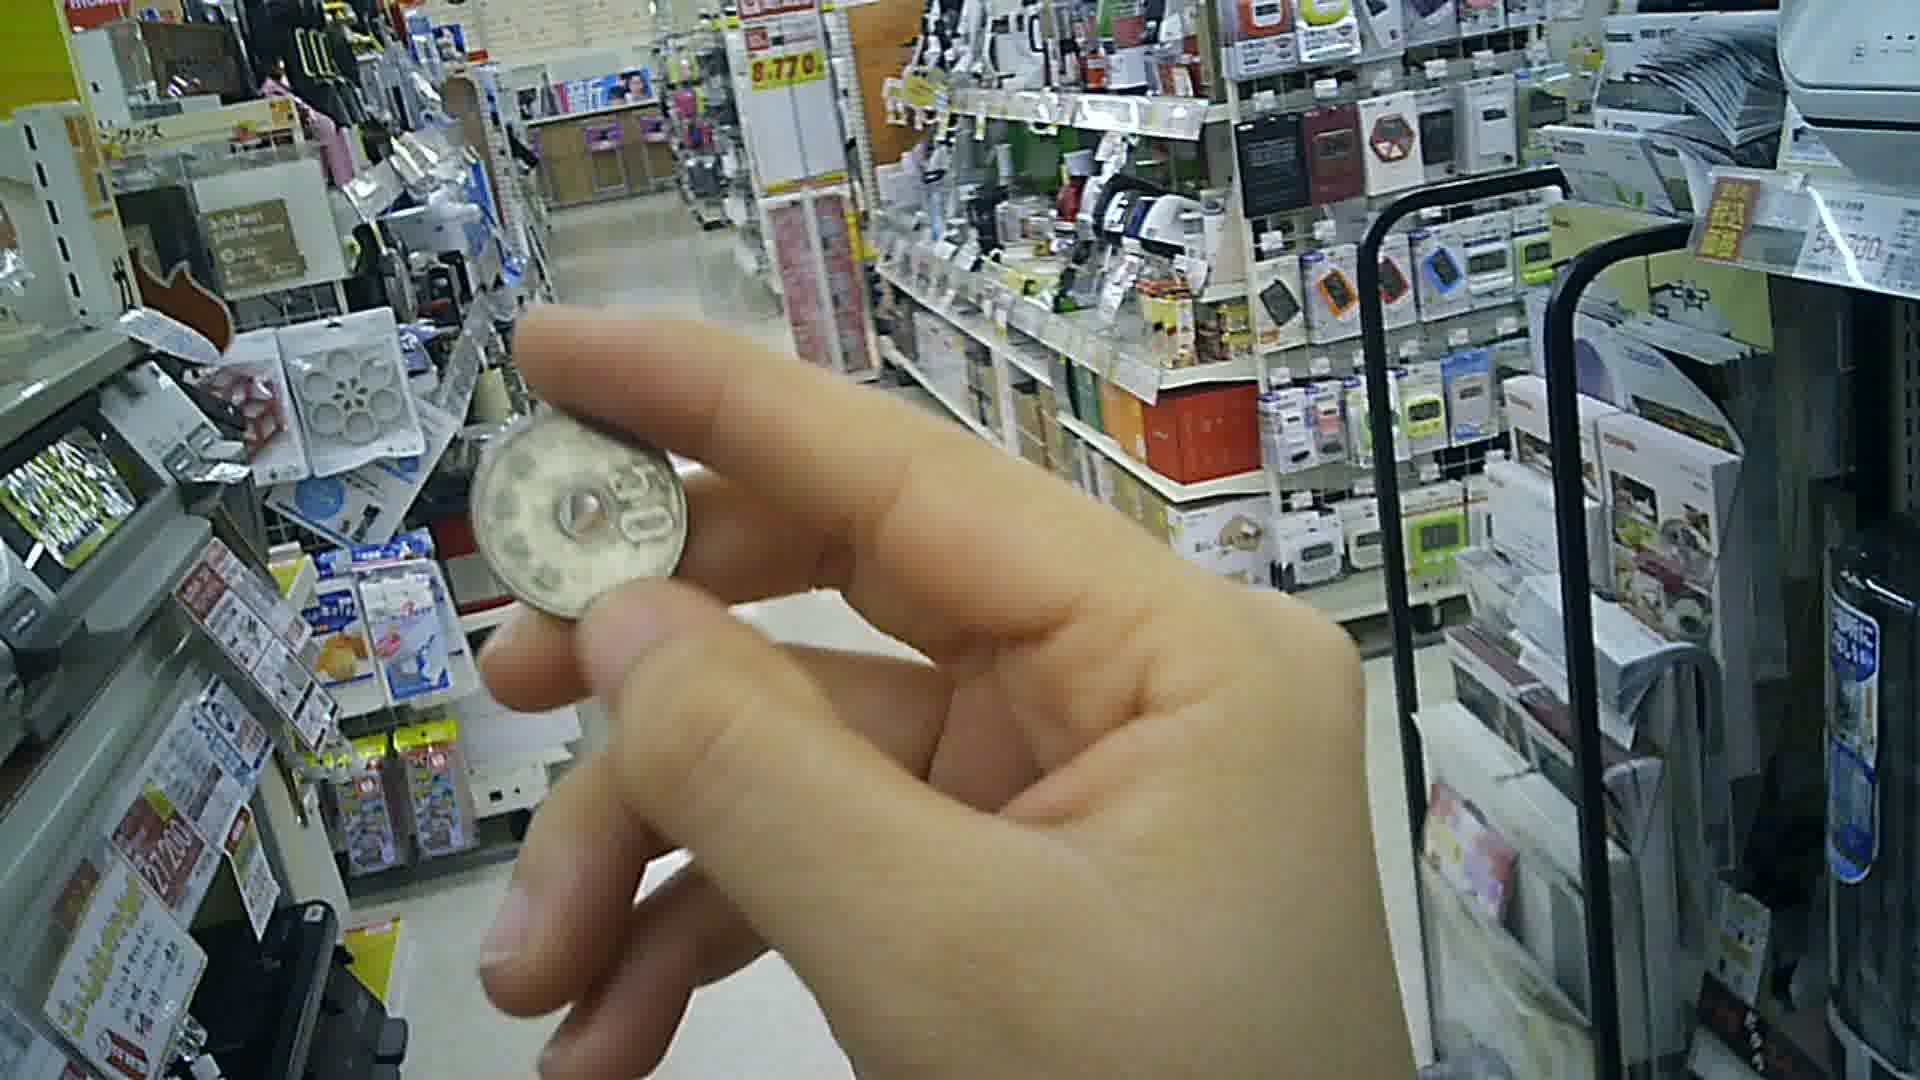50 Yen: (469, 404, 687, 626)
